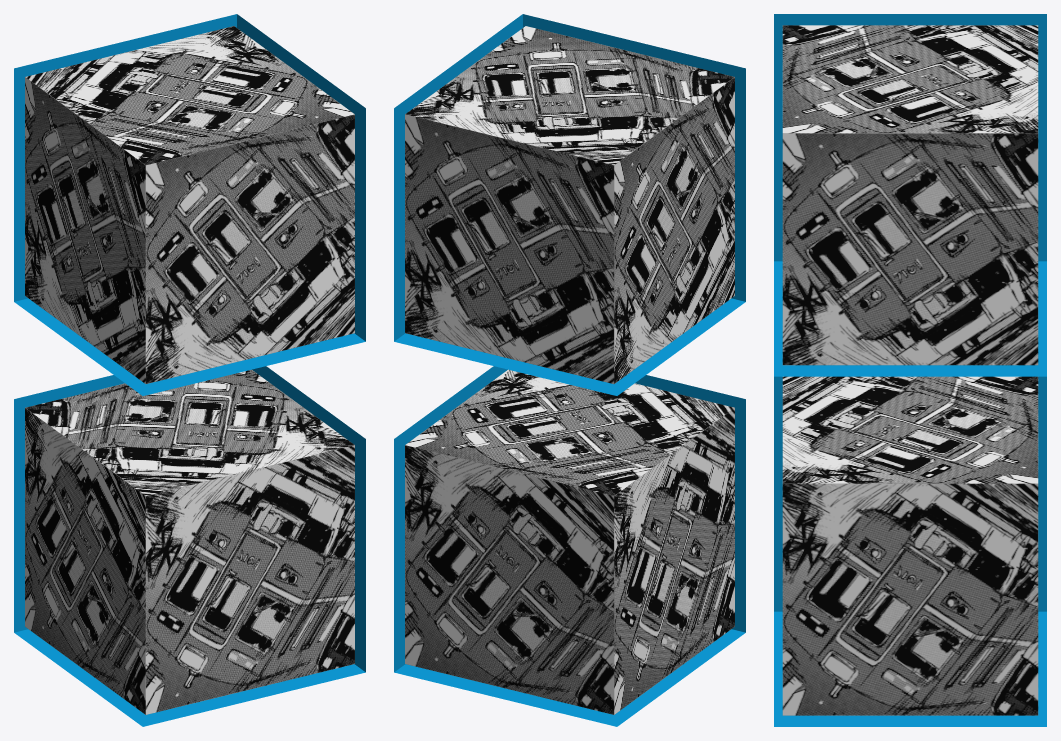
Rendered from ICON_7001.glb.
3 views of the same model, side by side, from view 1: azimuth 30°, elevation 25°; view 2: azimuth 150°, elevation 25°; view 3: azimuth 270°, elevation 25° (orthographic). The views are drawn at different scales.
Visible parts, largest first — view 1: ICON_7001, obj11, obj3, obj12; view 2: ICON_7001, obj11, obj3, obj12; view 3: ICON_7001, obj11, obj3, obj12.
Boxes of the visible parts, left/top/right/bottom form: ICON_7001: left=25, top=26, right=354, bottom=383; obj11: left=25, top=369, right=354, bottom=714; obj3: left=14, top=14, right=365, bottom=395; obj12: left=14, top=366, right=365, bottom=726; ICON_7001: left=405, top=26, right=734, bottom=383; obj11: left=405, top=369, right=734, bottom=714; obj3: left=394, top=14, right=745, bottom=395; obj12: left=394, top=366, right=745, bottom=726; ICON_7001: left=782, top=25, right=1038, bottom=365; obj11: left=782, top=376, right=1038, bottom=715; obj3: left=774, top=14, right=1046, bottom=376; obj12: left=774, top=376, right=1046, bottom=726.
Bounding box in the file's own units: 2.4 × 5.8 × 2.4.
Materials: 10 (10 with a texture image).
